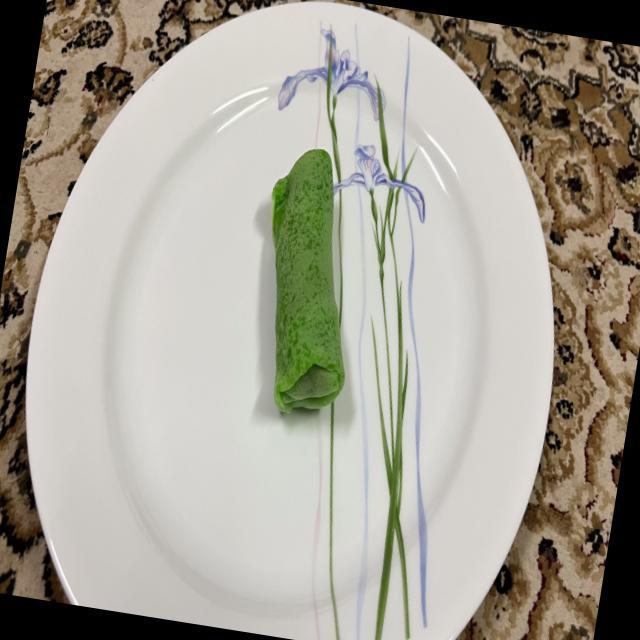Kuih-Ketayap: (271, 149, 345, 413)
